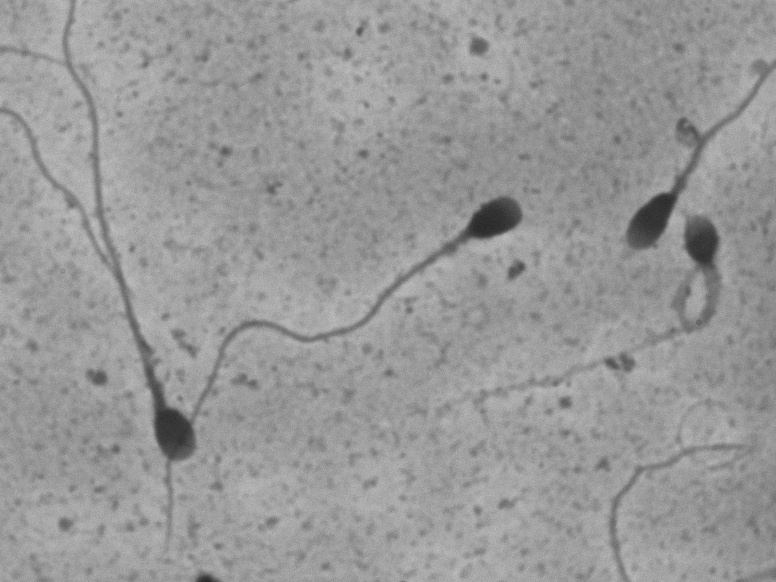Abnormal: (585, 64, 679, 260), (671, 201, 737, 354)
Normal: (135, 177, 534, 564)
